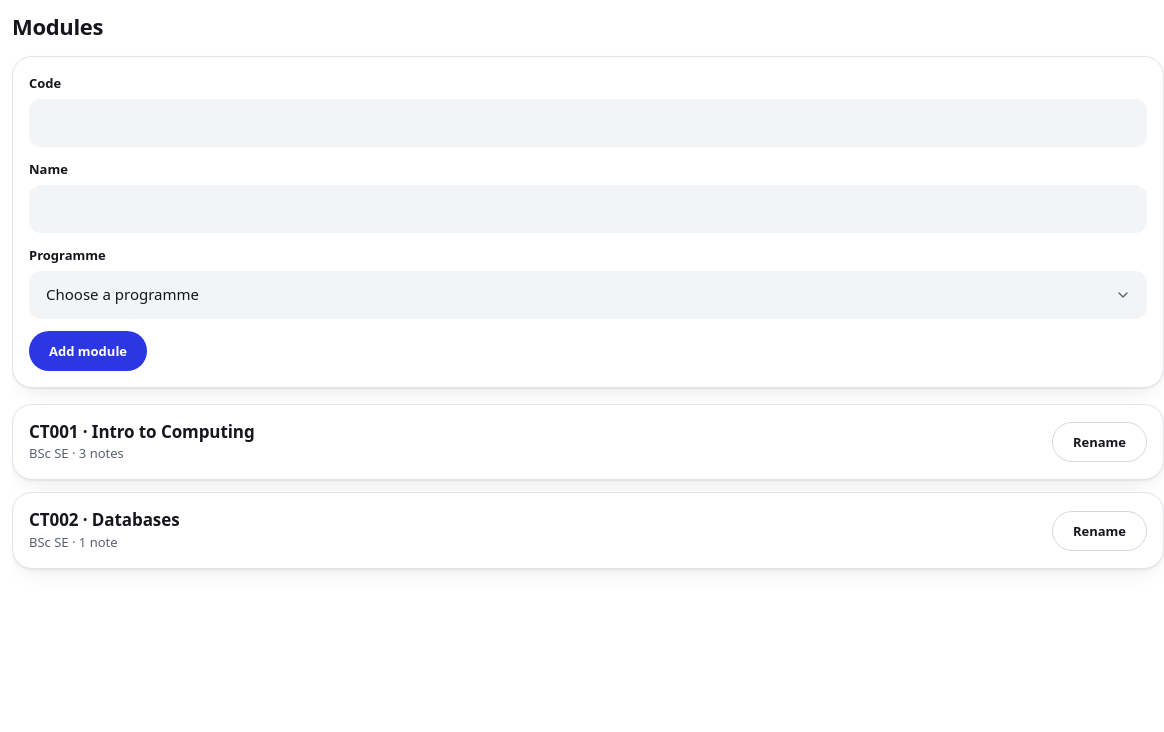
Test: admin modules › CLI-TC91: renaming sends only the name and updates the row
Click the button with aria-label "Rename CT002" at point(1099, 531), box [1052,511,1147,551]
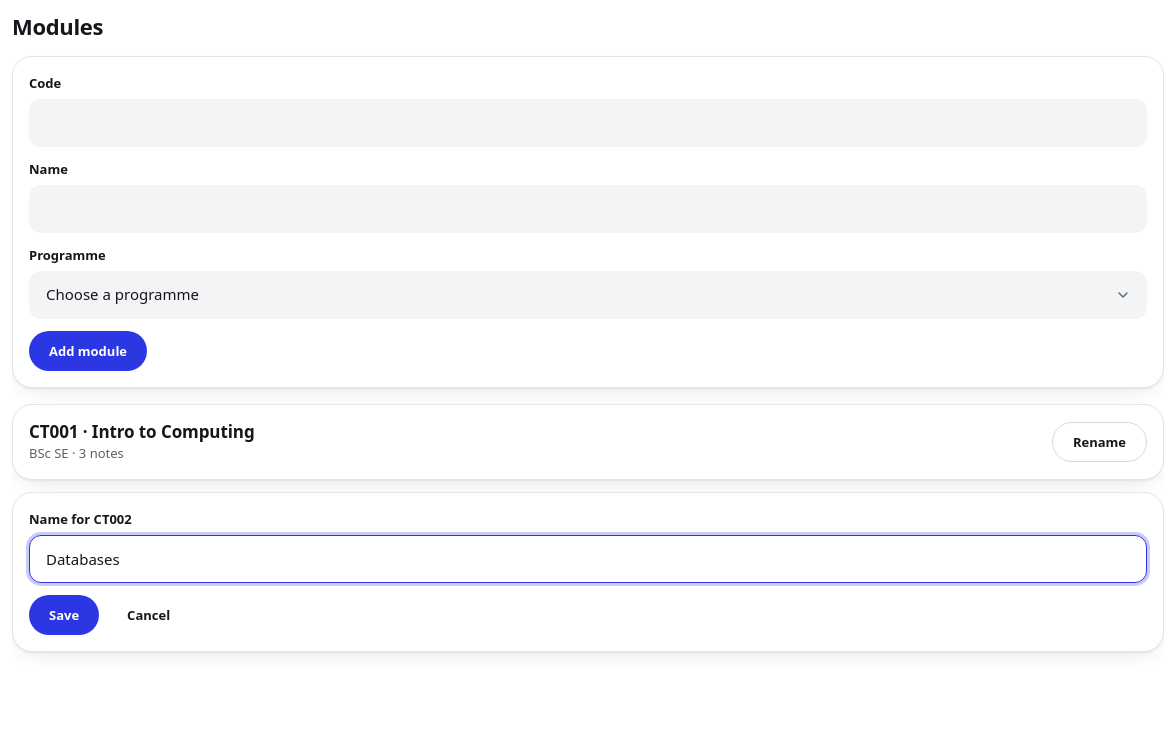
expect the field labelled "Name for CT002" holds "Databases": met
Replace the text in the field labelled "Name for CT002" with "Database Systems" at point(588, 559), box [29,535,1147,583]
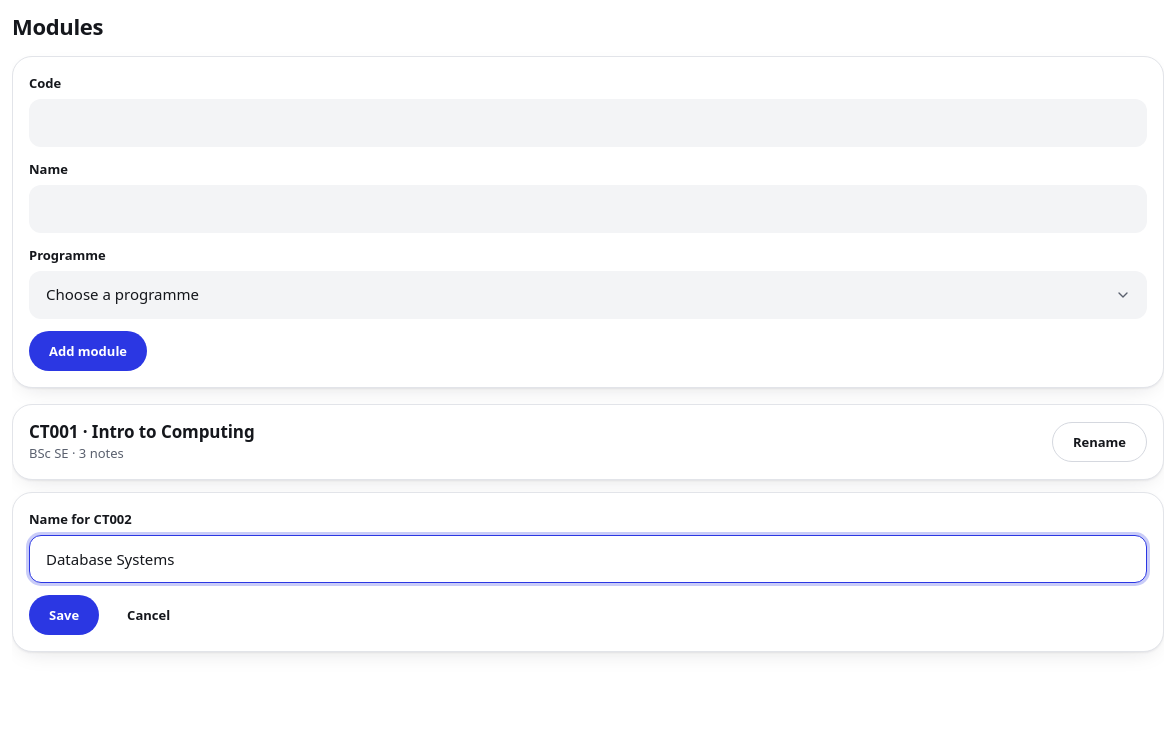
Click the button "Save" at point(64, 615), box [29,595,99,635]
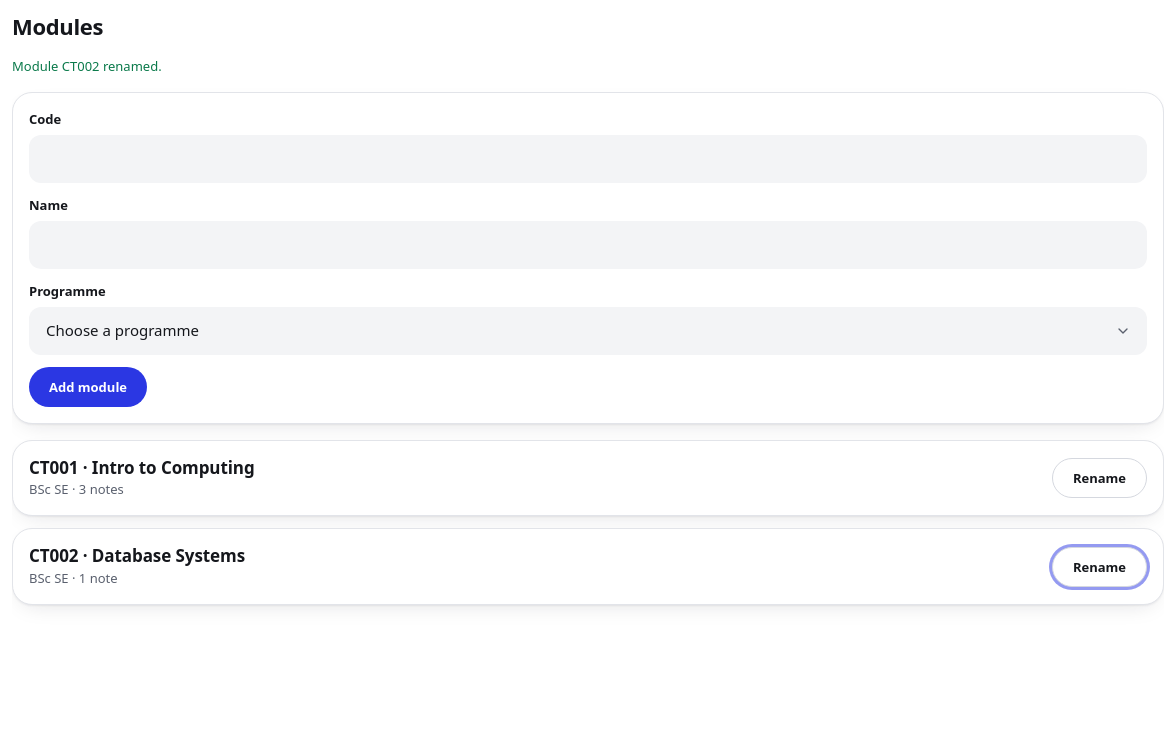
expect the text "CT002 · Database Systems" is shown: met, box [29,545,245,568]
